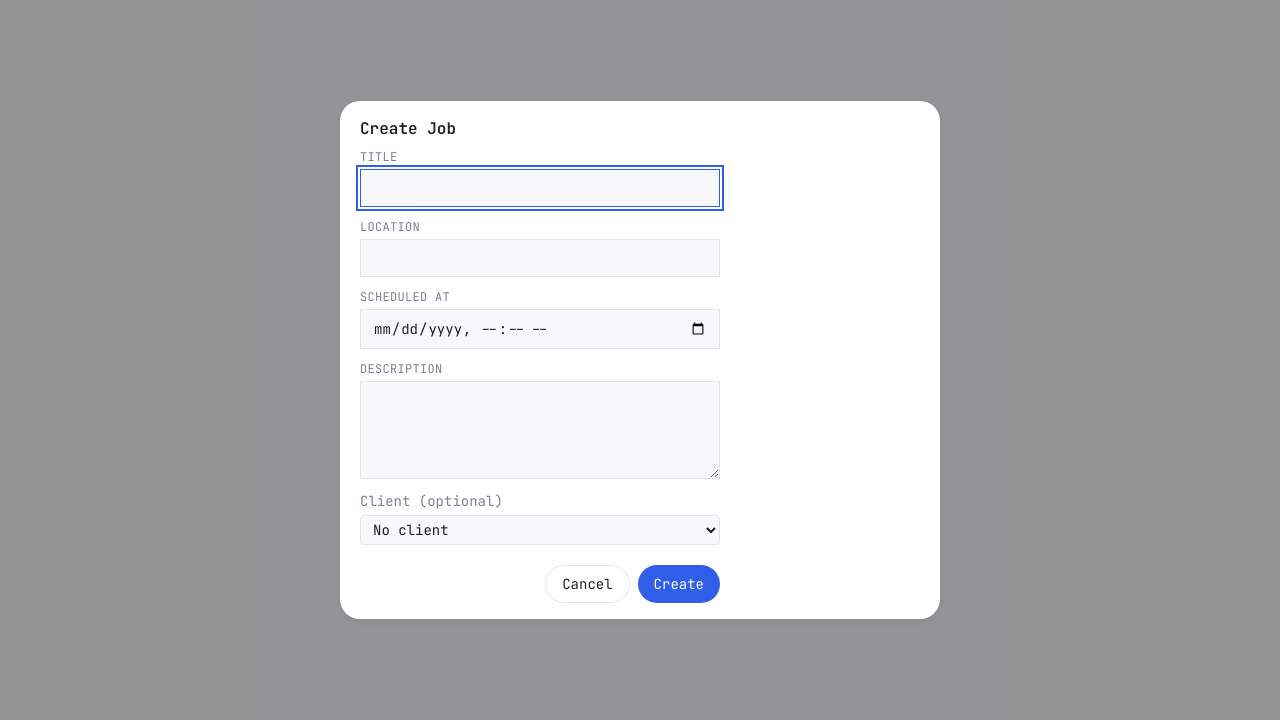
Test: CreateJobModal › shows inline error when title is empty and submit clicked
Click the button "Create" at x=679, y=584, box [638, 565, 720, 603]
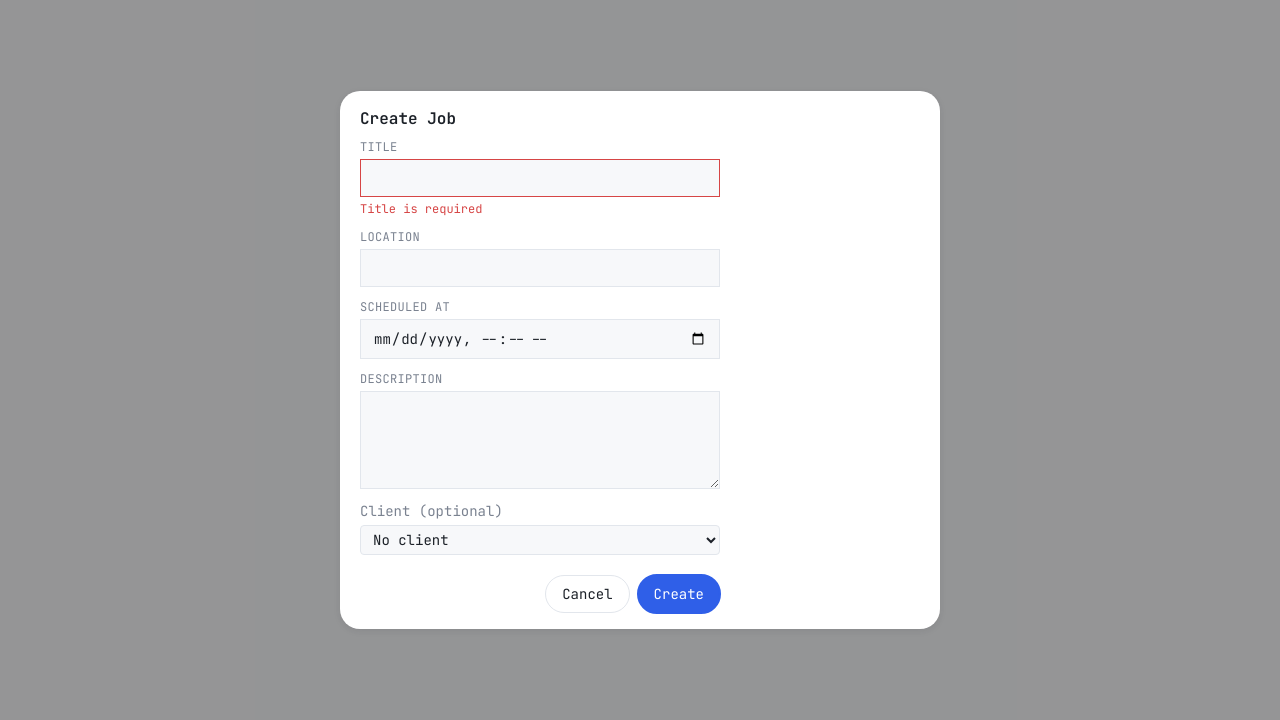
Expected: the text "Title is required" is shown, [360, 201, 482, 217]
